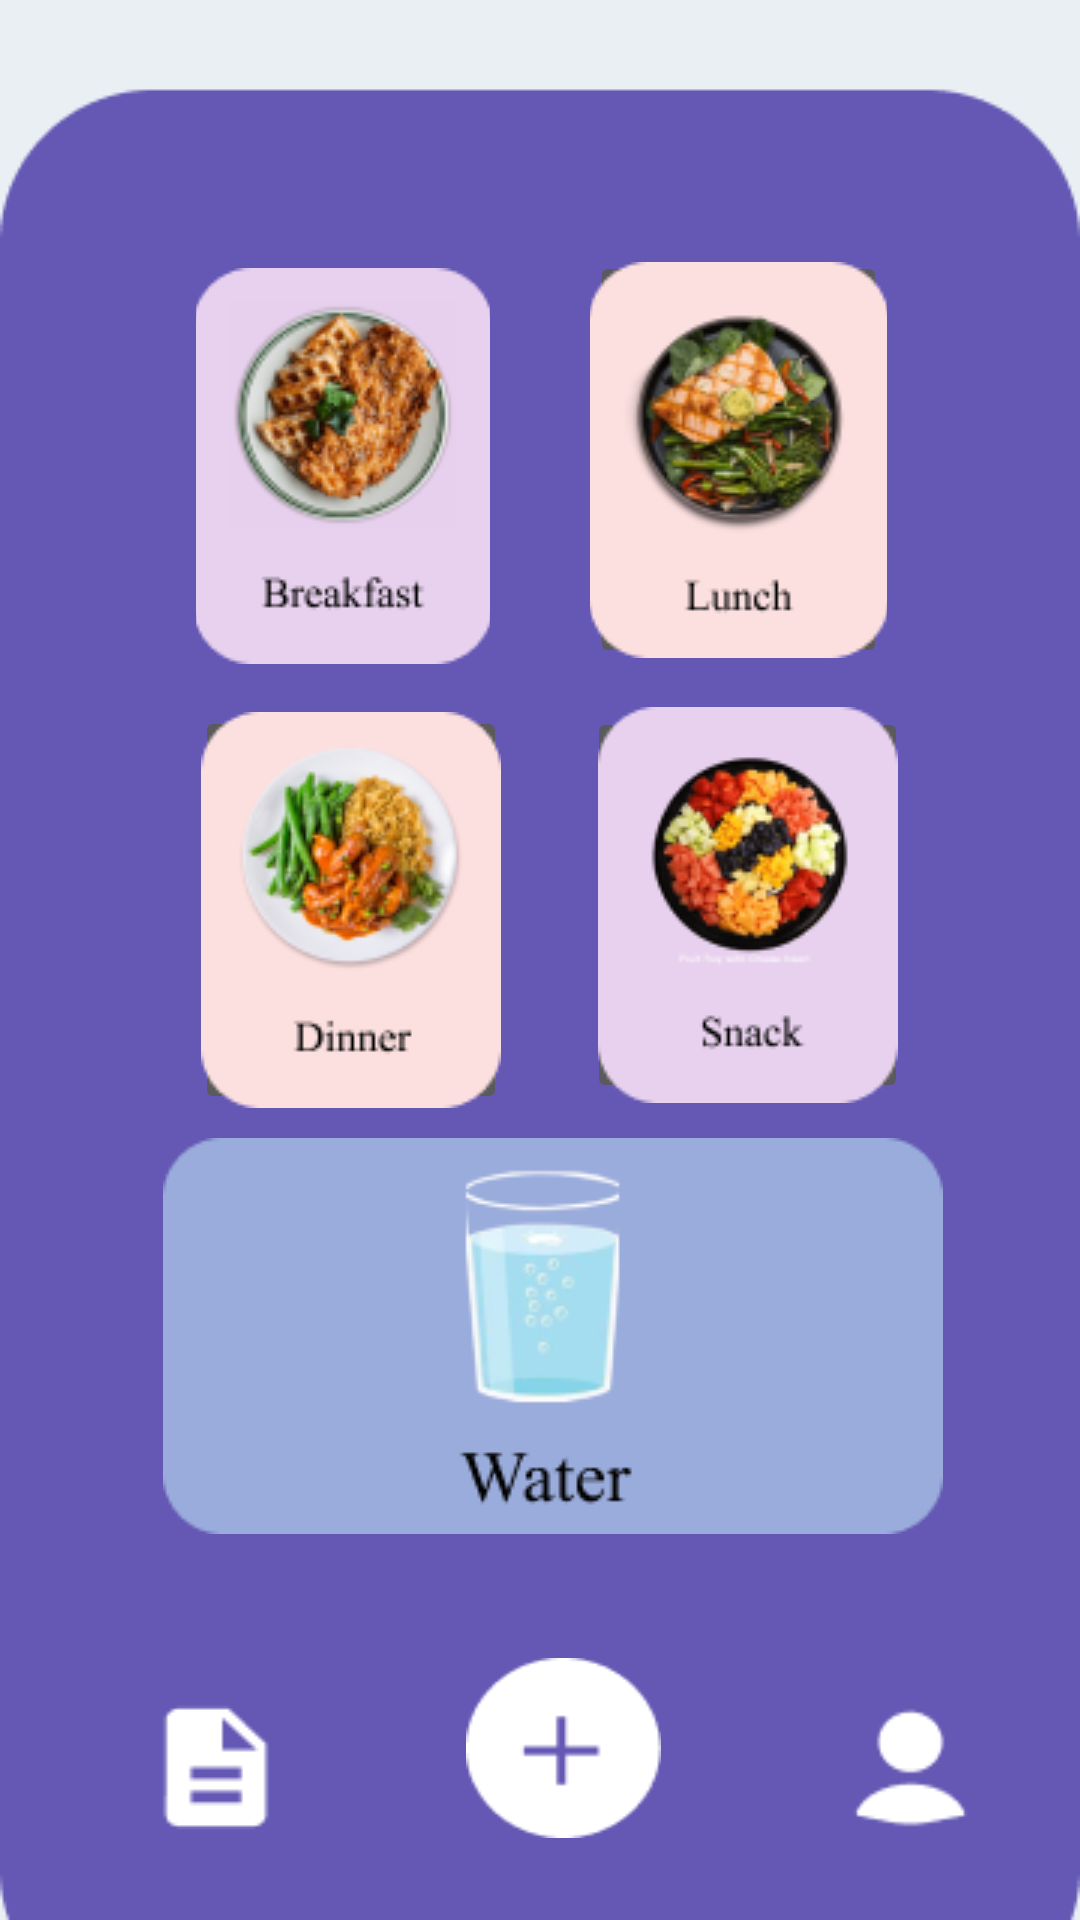

Screen size 1080w x 1920h. Icon name, then its box in pixels as (x1, y1, x2, y2):
description: (163, 1708, 268, 1827)
plus: (466, 1658, 661, 1838)
user: (856, 1710, 965, 1826)
